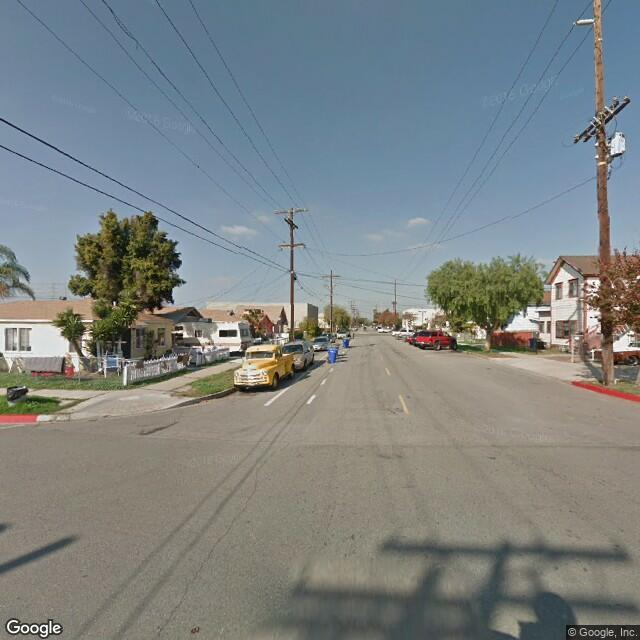litter: (1, 378, 36, 416)
